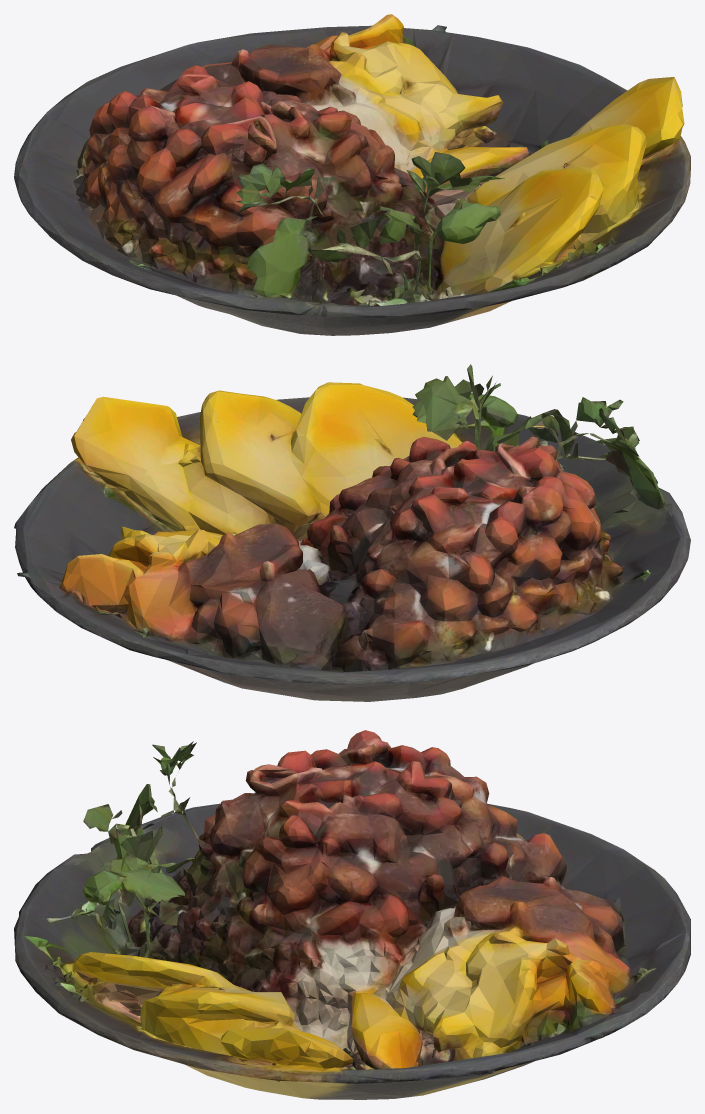
The model's file is plato-tipico.glb.
The picture shows the model from 3 angles, top to bottom: view 1: azimuth 30°, elevation 25°; view 2: azimuth 150°, elevation 25°; view 3: azimuth 270°, elevation 25°; orthographic projection.
Parts seen in each view (by area): view 1: geometry_0; view 2: geometry_0; view 3: geometry_0.
Boxes of the visible parts, bbox=[...] form: geometry_0: bbox=[14, 14, 690, 335]; geometry_0: bbox=[14, 364, 690, 701]; geometry_0: bbox=[14, 730, 690, 1099].
Size of the model in its own units: 0.28 by 0.0868 by 0.2788.
1 material, 1 textured.
